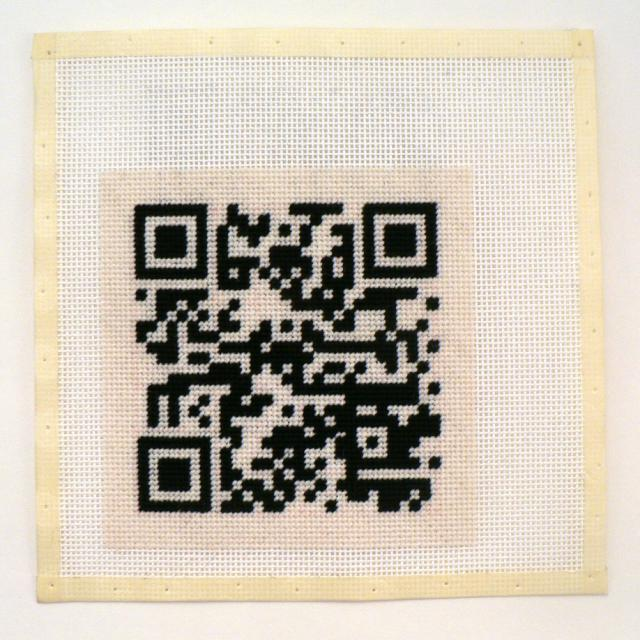qrcode: (135, 203, 442, 512)
